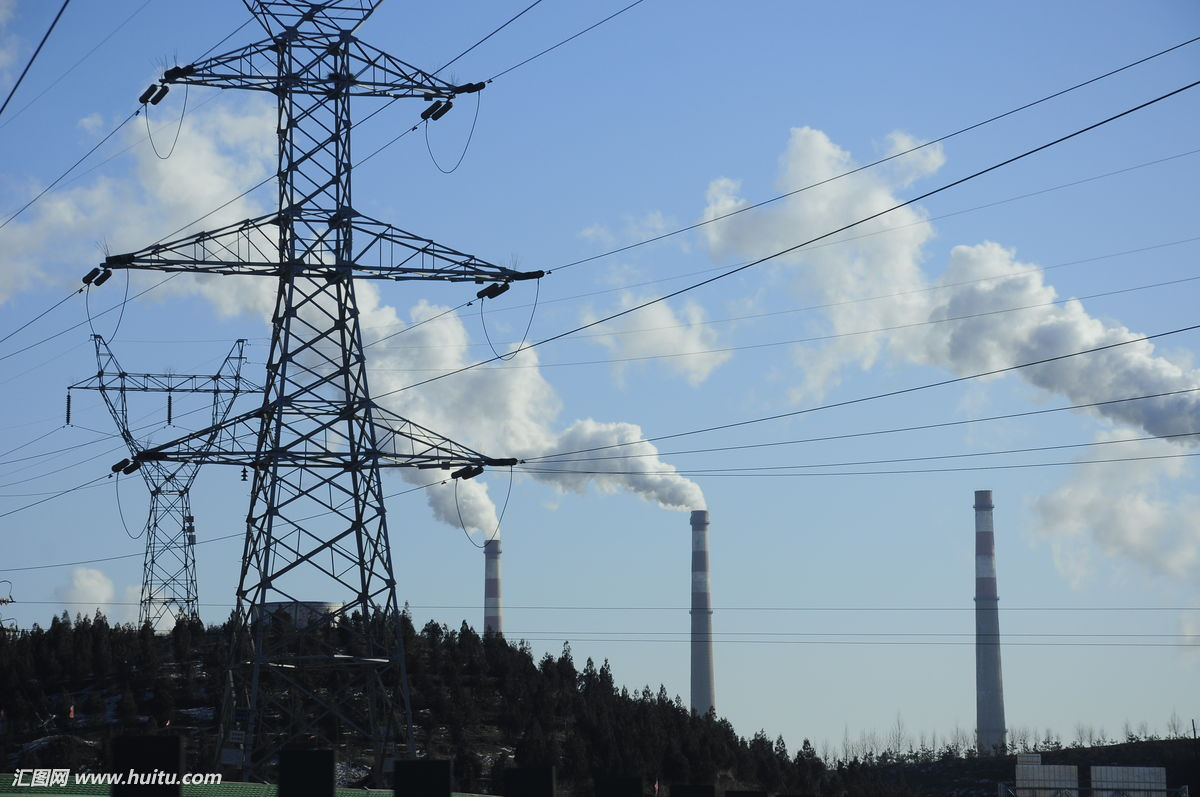dust: (534, 401, 722, 519), (404, 430, 512, 554)
